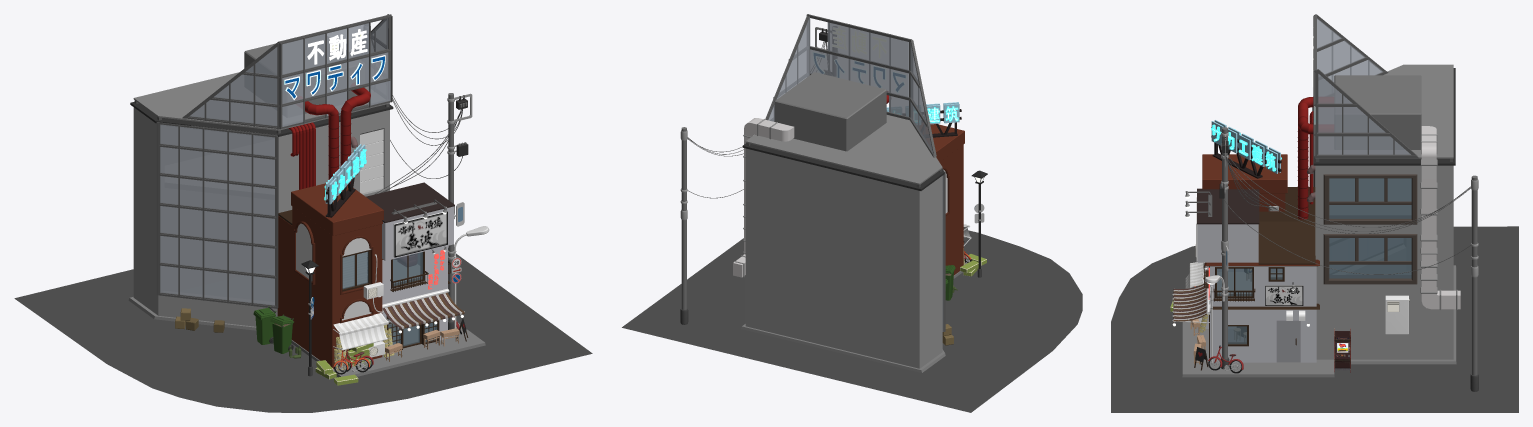
3 renders of one model, left to right at view 1: azimuth 30°, elevation 25°; view 2: azimuth 150°, elevation 25°; view 3: azimuth 270°, elevation 25°, orthographic. The views are drawn at different scales.
Parts seen in each view (by area): view 1: polySurface1456; view 2: polySurface1456; view 3: polySurface1456.
Part boxes in pixels (<box>): polySurface1456: <box>14,14,592,412</box>; polySurface1456: <box>622,14,1082,412</box>; polySurface1456: <box>1111,14,1518,412</box>.
Size of the model in its own units: 37.02 by 27.33 by 34.21.
99 materials, 18 textured.
